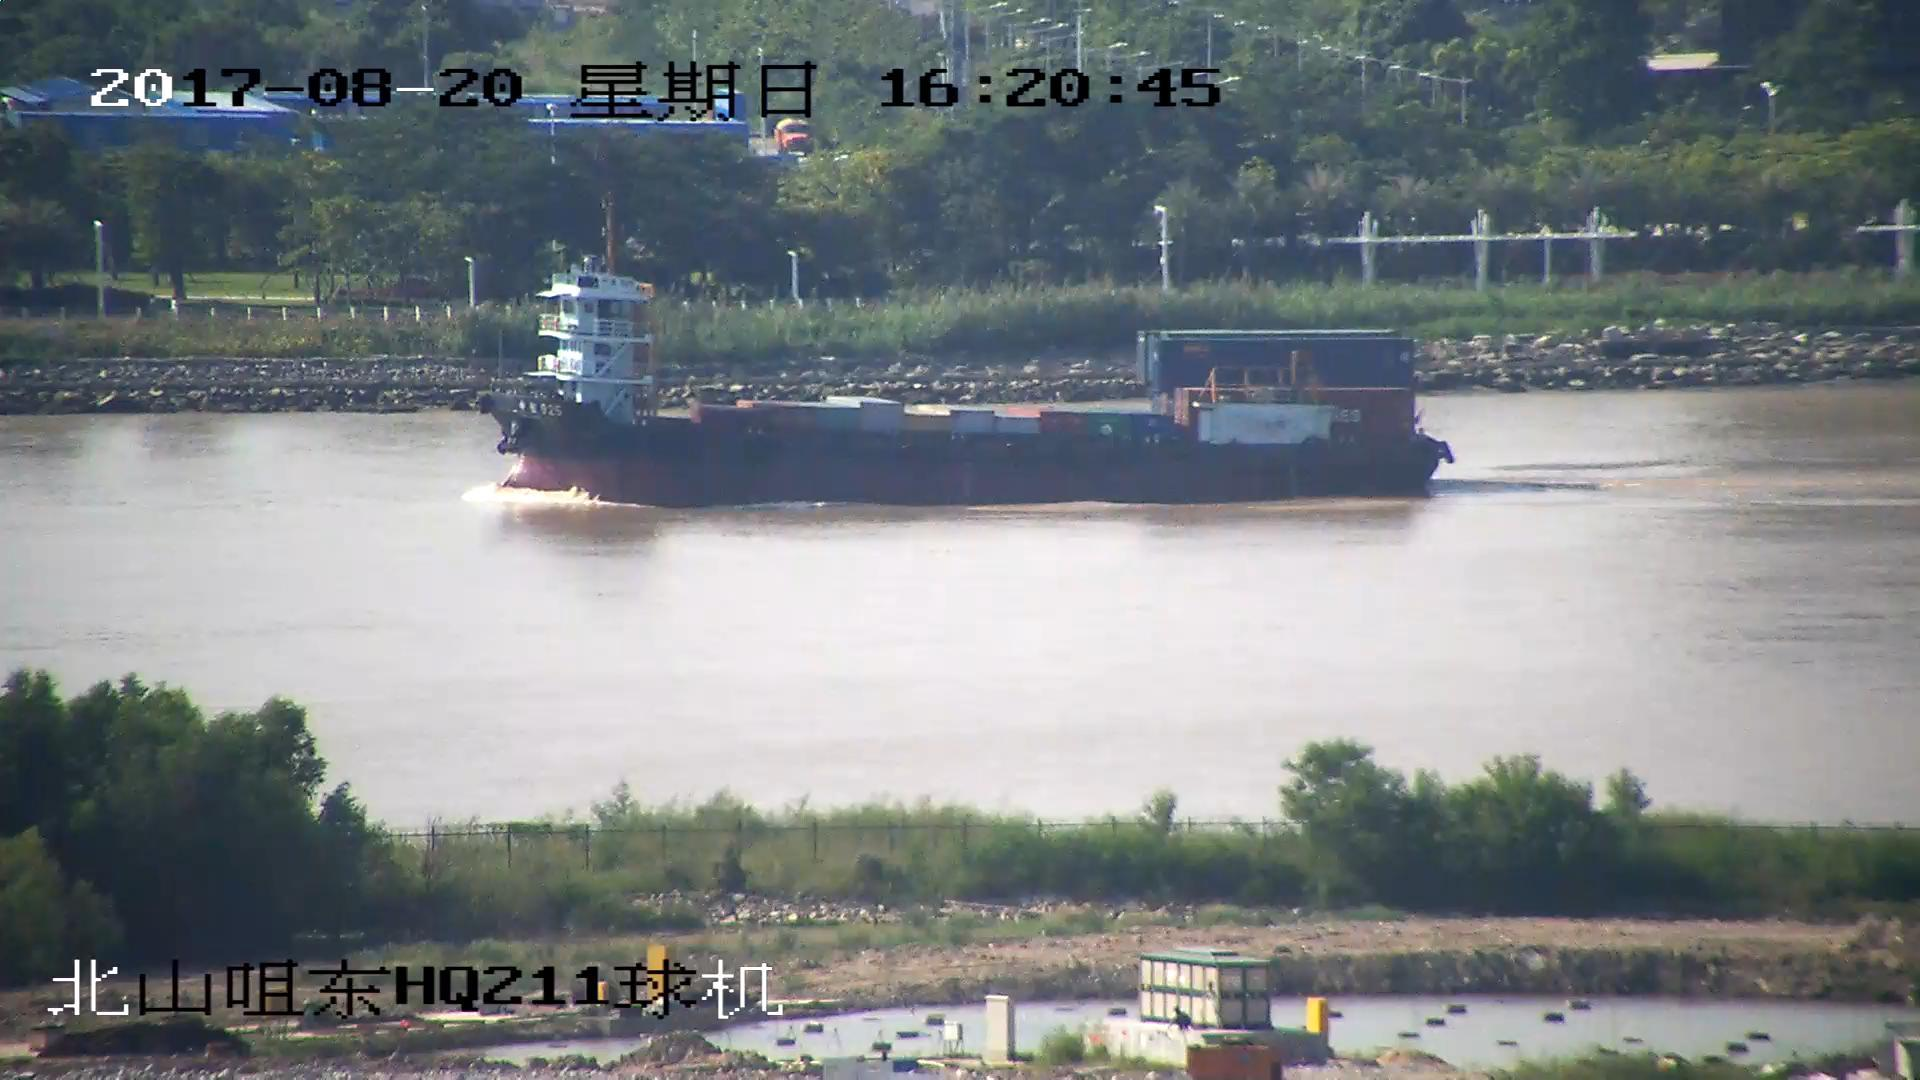Ship: (475, 200, 1460, 510)
